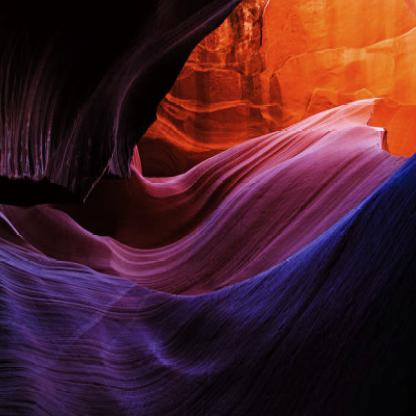Sedimentary_Sandstone: (0, 0, 243, 196)
